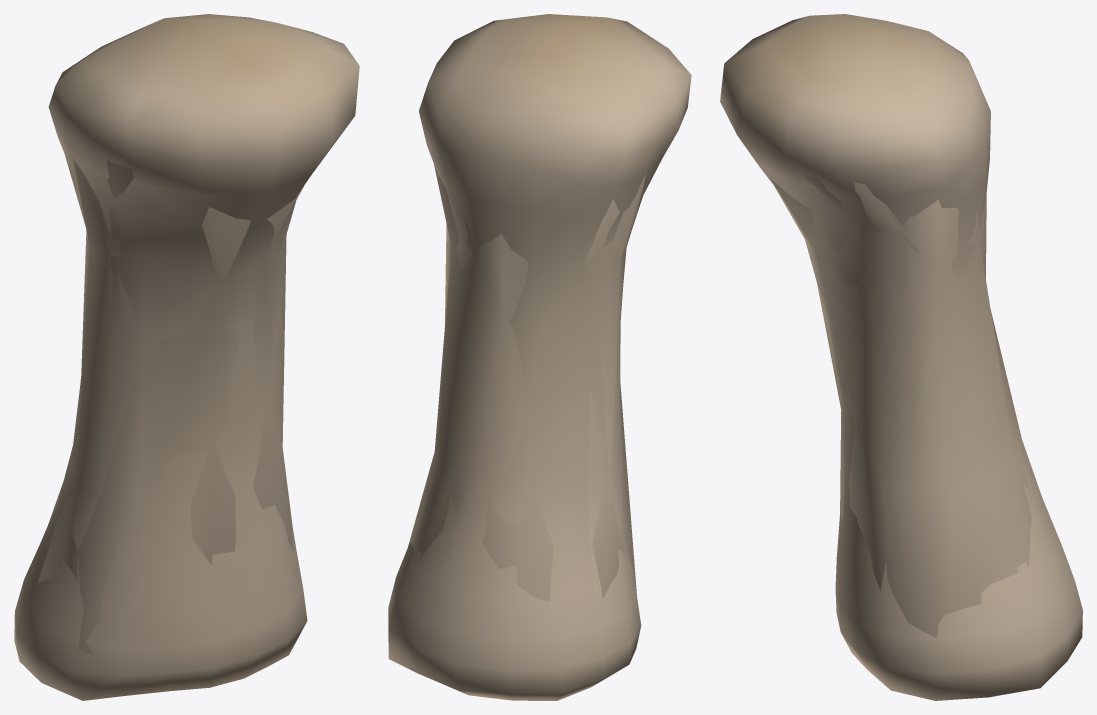
File: vertebrae caudales 15.fbx
3 renders of one model, left to right at view 1: azimuth 30°, elevation 25°; view 2: azimuth 150°, elevation 25°; view 3: azimuth 270°, elevation 25°, orthographic. The views are drawn at different scales.
Parts seen in each view (by area): view 1: vertebrae caudales 15, vertebrae caudales 15 low; view 2: vertebrae caudales 15, vertebrae caudales 15 low; view 3: vertebrae caudales 15, vertebrae caudales 15 low.
Boxes of the visible parts, bbox=[...] form: vertebrae caudales 15: bbox=[14, 14, 359, 700]; vertebrae caudales 15 low: bbox=[37, 155, 304, 654]; vertebrae caudales 15: bbox=[388, 14, 691, 700]; vertebrae caudales 15 low: bbox=[408, 164, 645, 602]; vertebrae caudales 15: bbox=[720, 14, 1082, 700]; vertebrae caudales 15 low: bbox=[770, 174, 1031, 638].
Size of the model in its own units: 0.9817 by 2.45 by 1.29.
1 material, 1 textured.
